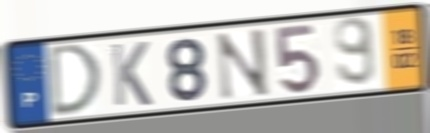5: (272, 21, 324, 96)
8: (165, 36, 210, 103)
9: (332, 15, 378, 93)
D: (48, 41, 104, 121)
K: (108, 40, 154, 109)
N: (214, 26, 273, 103)
